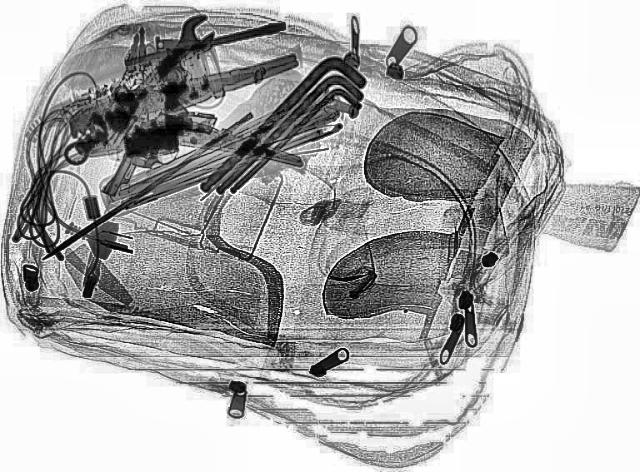Gun: (97, 98, 221, 211)
Wrench: (48, 10, 230, 170)
